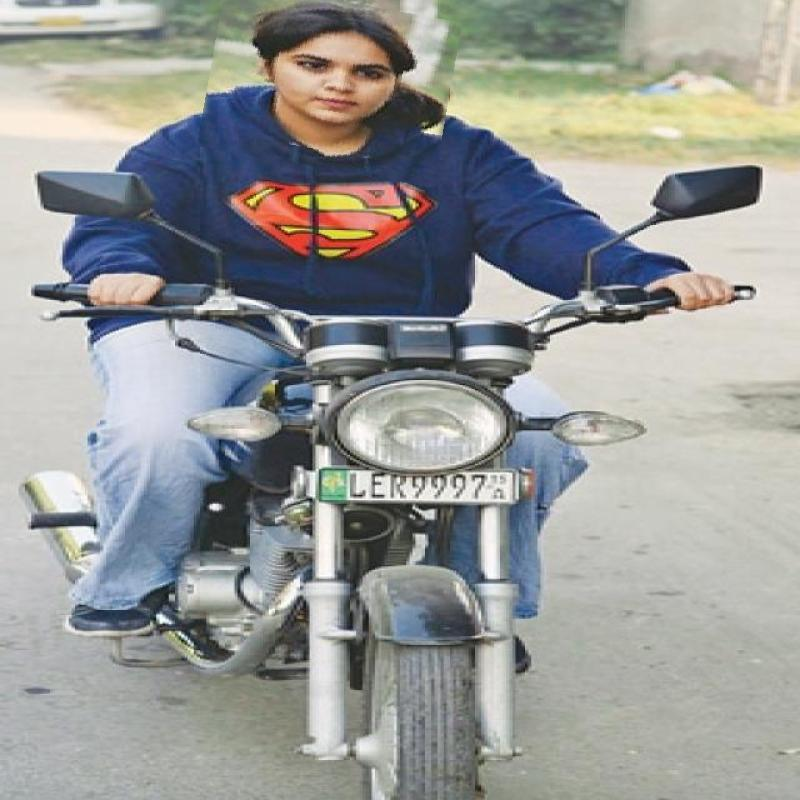nohelmet: (203, 0, 456, 177)
